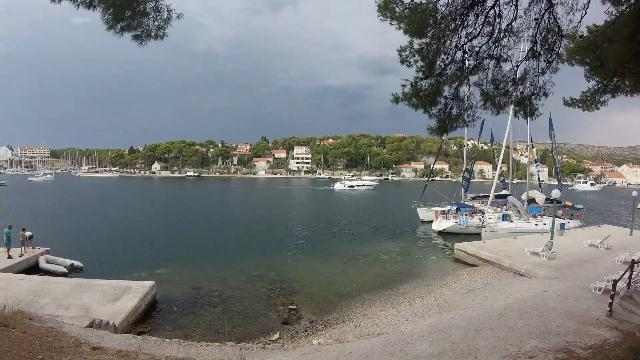Sailboat: (24, 168, 58, 186)
speedboat: (326, 170, 384, 192)
